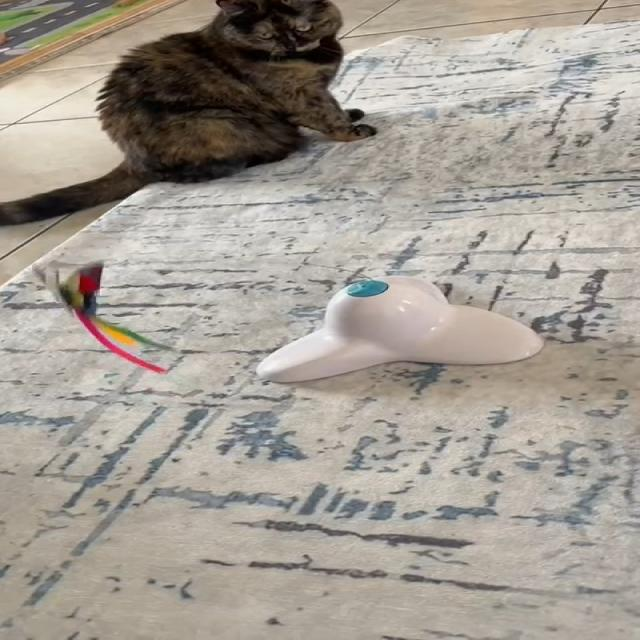authorized: (0, 0, 377, 226)
